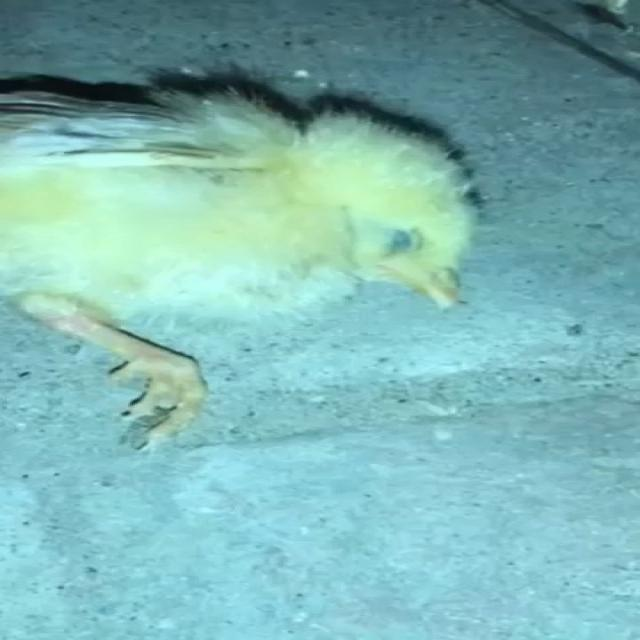abnormal chicken: (0, 42, 501, 454)
